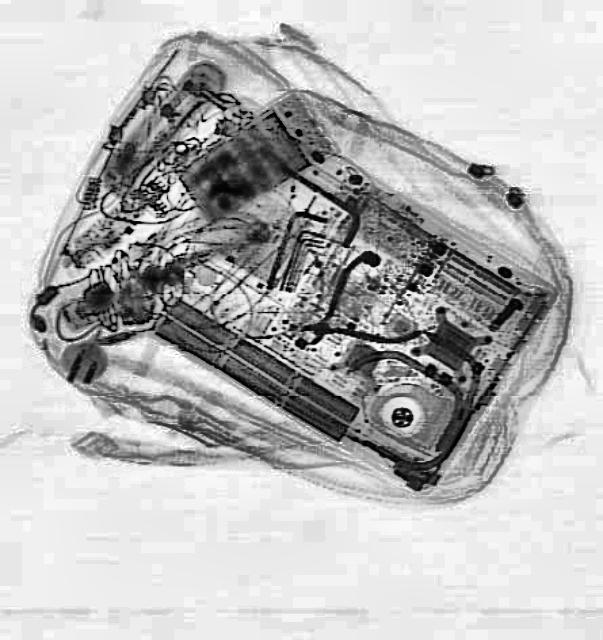Pliers: (280, 245, 420, 378)
